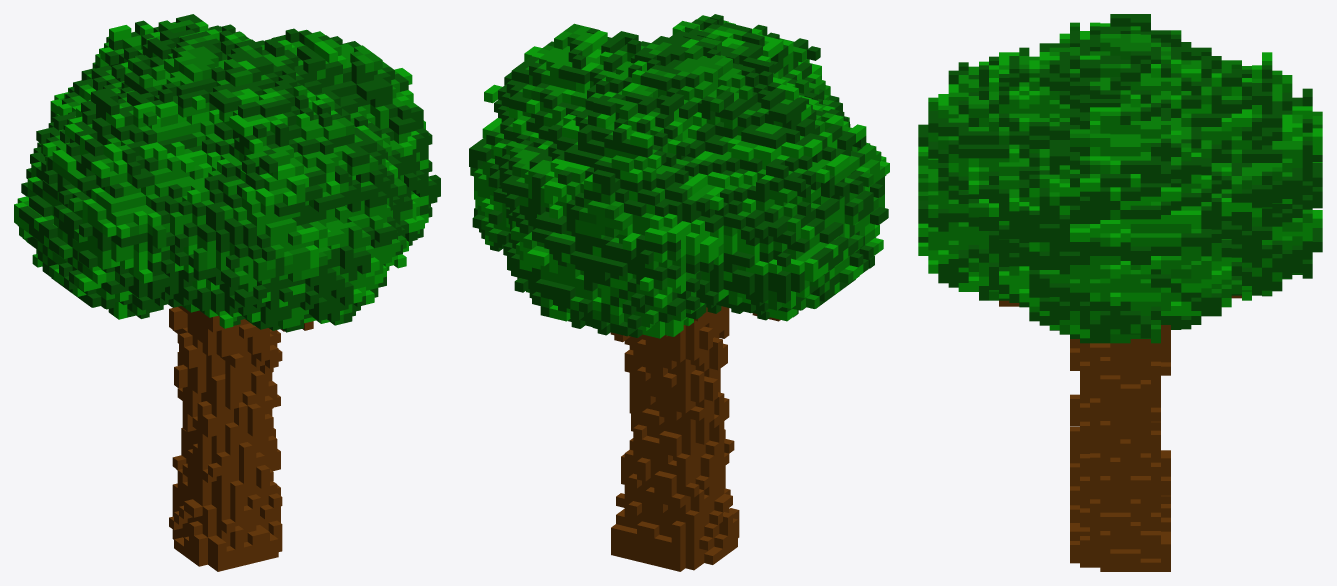
The model's file is game_tree.glb.
3 renders of one model, left to right at view 1: azimuth 30°, elevation 25°; view 2: azimuth 150°, elevation 25°; view 3: azimuth 270°, elevation 25°, orthographic.
Visible parts, largest first — view 1: Node1; view 2: Node1; view 3: Node1.
Boxes of the visible parts, box(x1,y1,x2,y2) form: Node1: box(14, 14, 440, 571); Node1: box(469, 14, 889, 571); Node1: box(918, 14, 1322, 571).
Bounding box in the file's own units: 4 × 5.4 × 4.
Materials: 1 (1 with a texture image).
